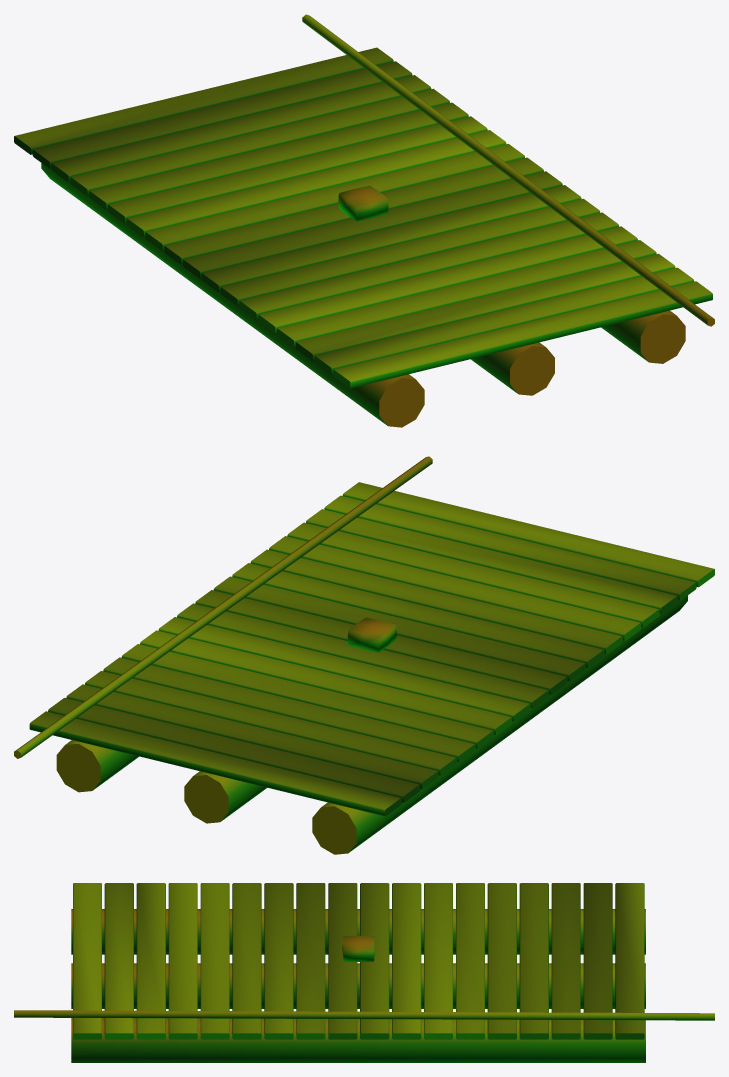
The model's file is ebbing_raft.glb.
3 renders of one model, top to bottom at view 1: azimuth 30°, elevation 25°; view 2: azimuth 150°, elevation 25°; view 3: azimuth 270°, elevation 25°, orthographic. The views are drawn at different scales.
Parts seen in each view (by area): view 1: ebbing_raft; view 2: ebbing_raft; view 3: ebbing_raft.
Part boxes in pixels (x1,y1,x2,y2): ebbing_raft: (14, 14, 714, 427); ebbing_raft: (14, 456, 714, 854); ebbing_raft: (14, 883, 714, 1062).
Size of what is drawn, in the model's own units: 2.6 by 0.53 by 5.12.
